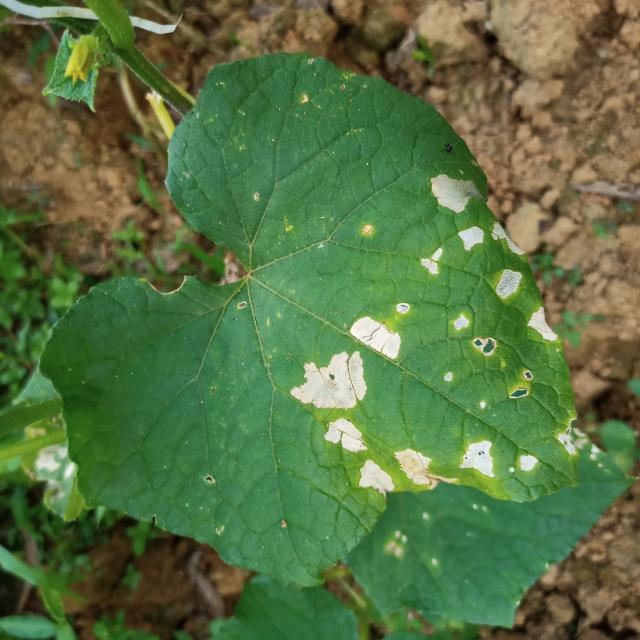disease_cucumber: (289, 318, 403, 409), (422, 176, 484, 277), (461, 440, 537, 480), (358, 450, 432, 490), (493, 223, 524, 303), (453, 315, 498, 361), (322, 417, 370, 452), (529, 306, 557, 342)
